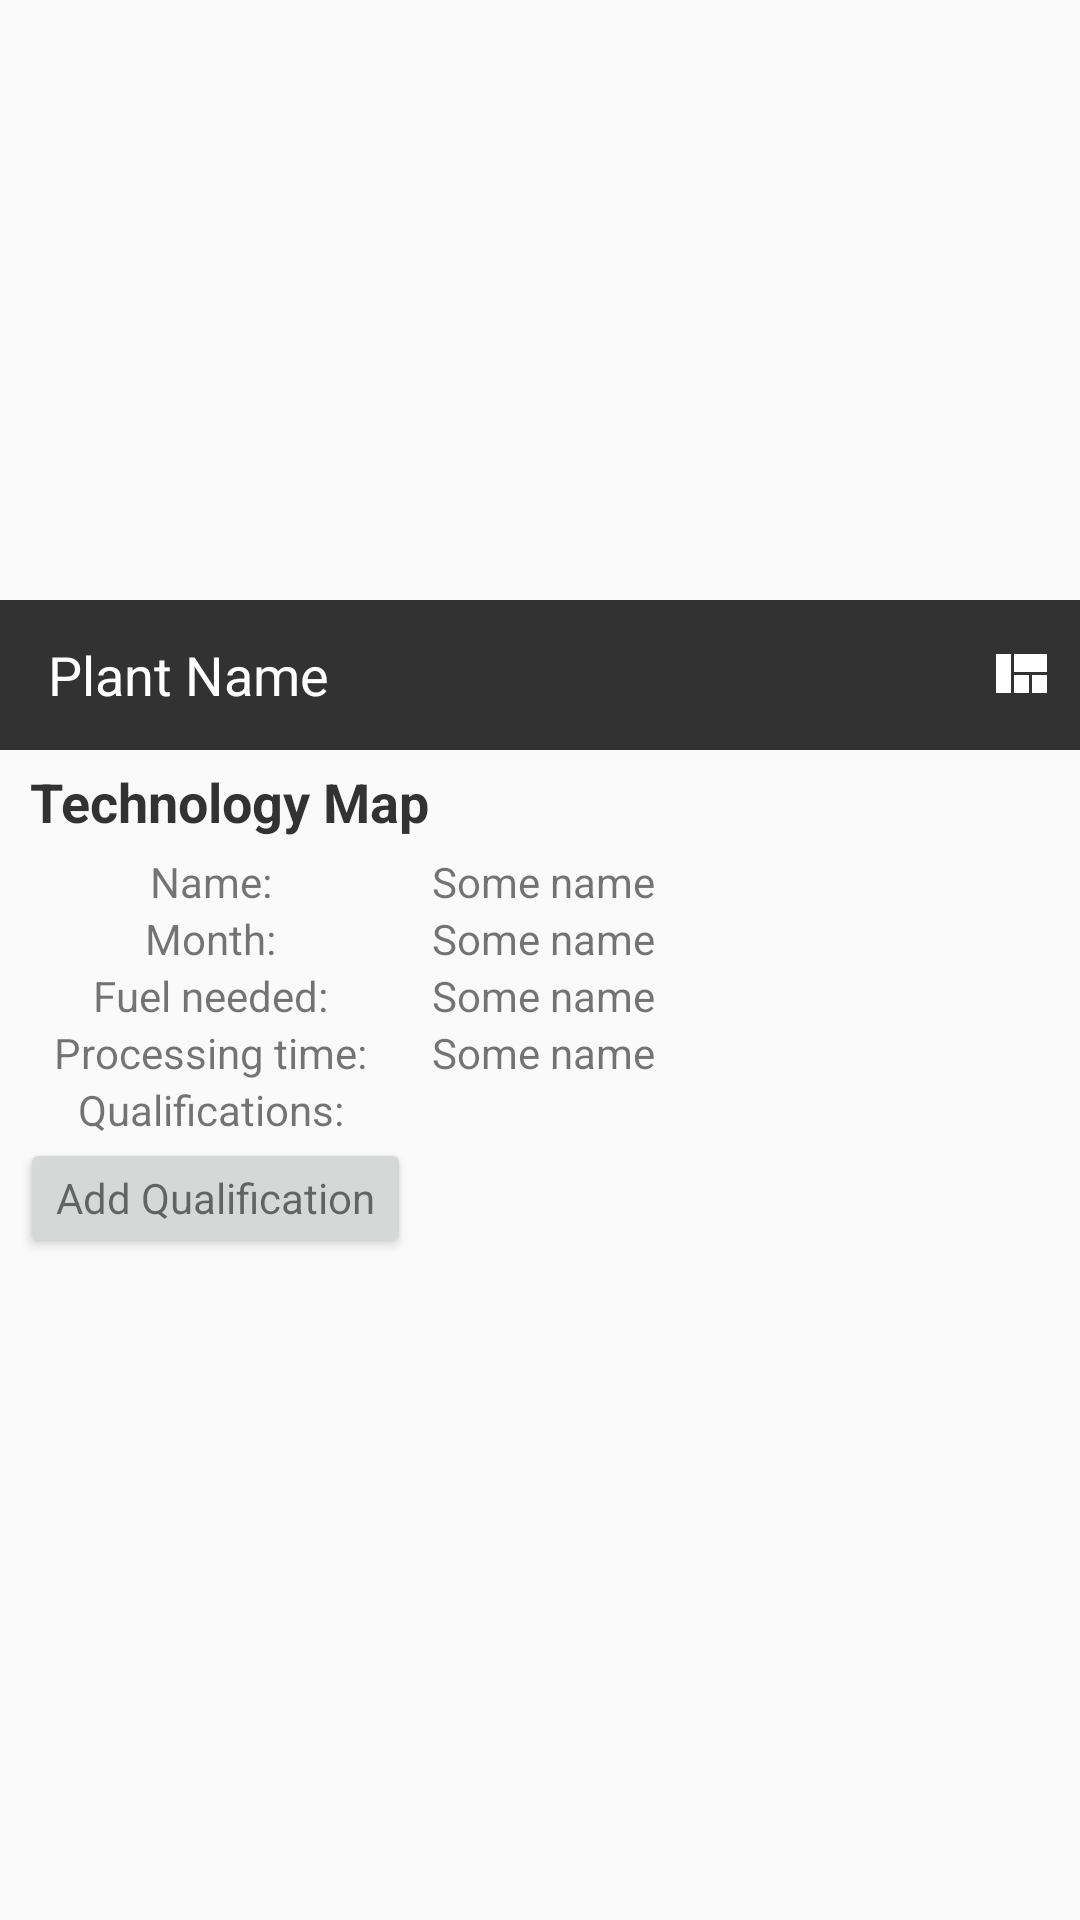

Screen size 1080*1920. Icon name, then its center in pixels as point (x, y):
view quilt: point (1021, 673)
